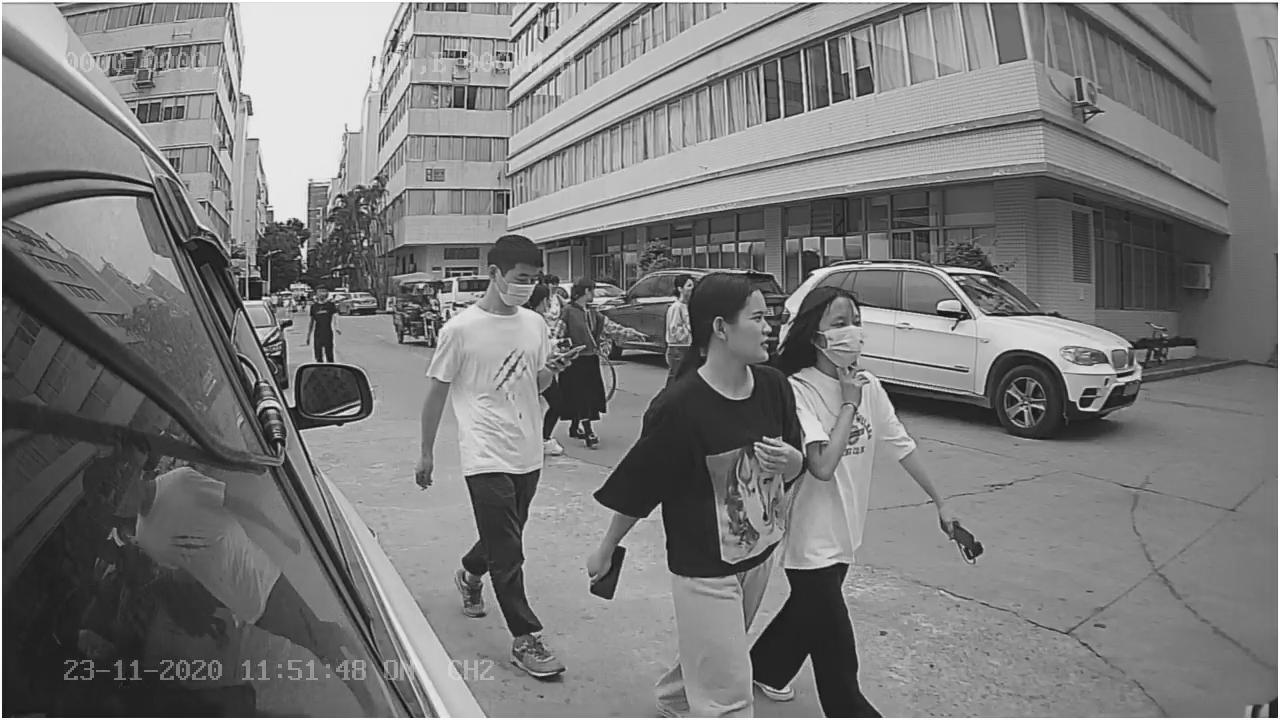person: (418, 223, 581, 677)
